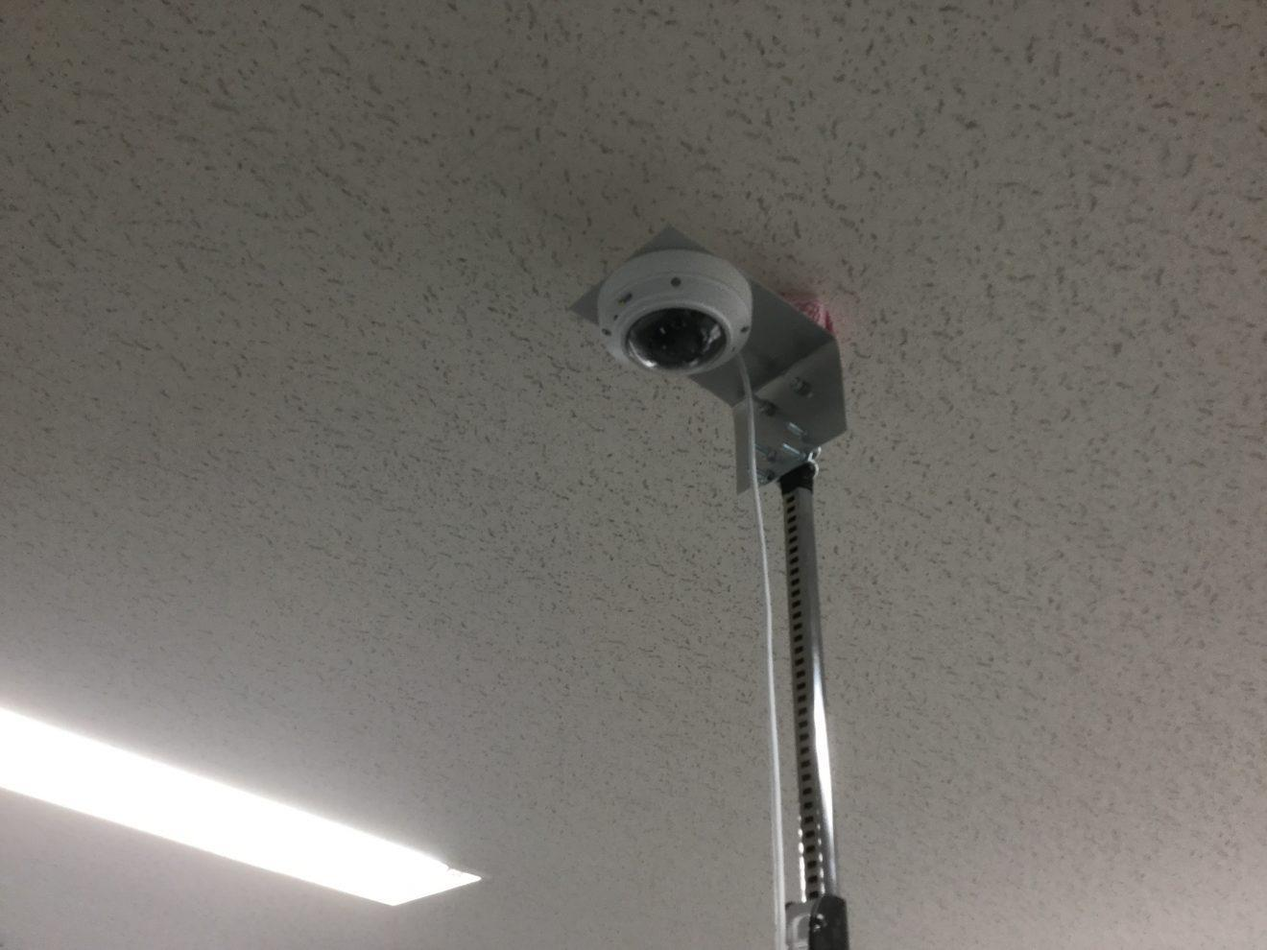maru: (606, 233, 779, 414)
